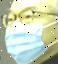with_mask: (2, 2, 58, 64)
